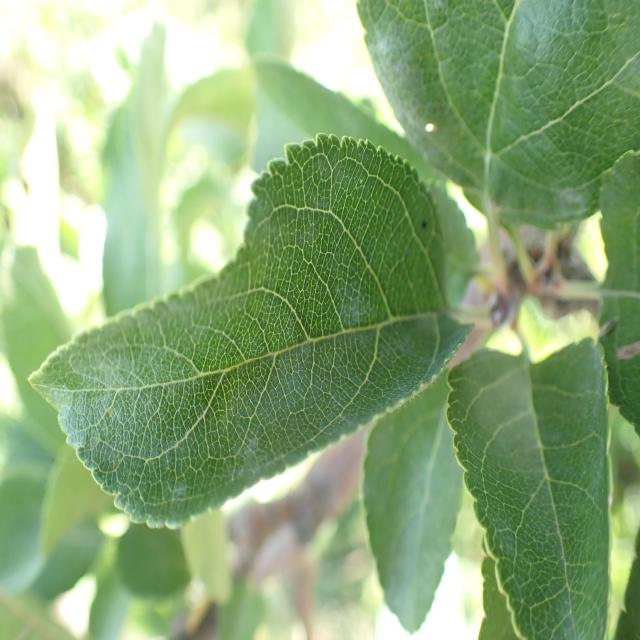Powdery_mildew: (39, 128, 458, 526), (351, 0, 616, 251), (448, 318, 629, 640)
